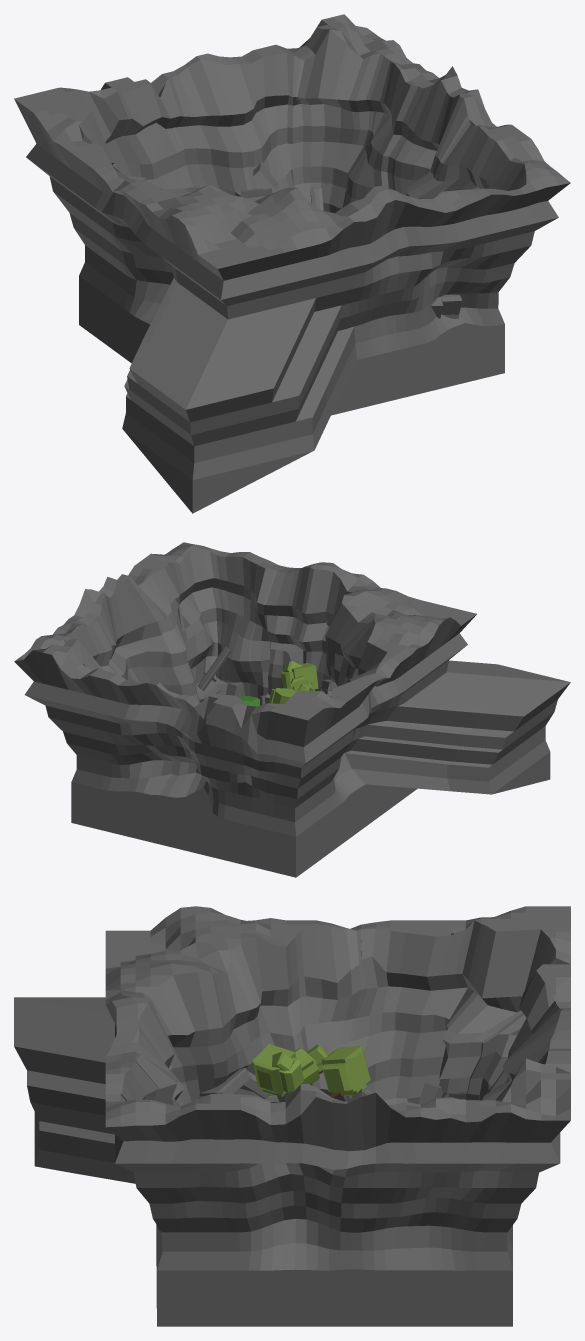
Rendered from DungeonEntrance.fbx.
3 views of the same model, one above another, from view 1: azimuth 30°, elevation 25°; view 2: azimuth 150°, elevation 25°; view 3: azimuth 270°, elevation 25° (orthographic). The views are drawn at different scales.
Parts seen in each view (by area): view 1: Cube.001; view 2: Cube.001; view 3: Cube.001.
Boxes of the visible parts, x1,y1,x2,y2 form: Cube.001: (14, 14, 570, 513); Cube.001: (14, 542, 570, 877); Cube.001: (14, 906, 570, 1326).
Bounding box in the file's own units: 43611 × 23580 × 43340.
